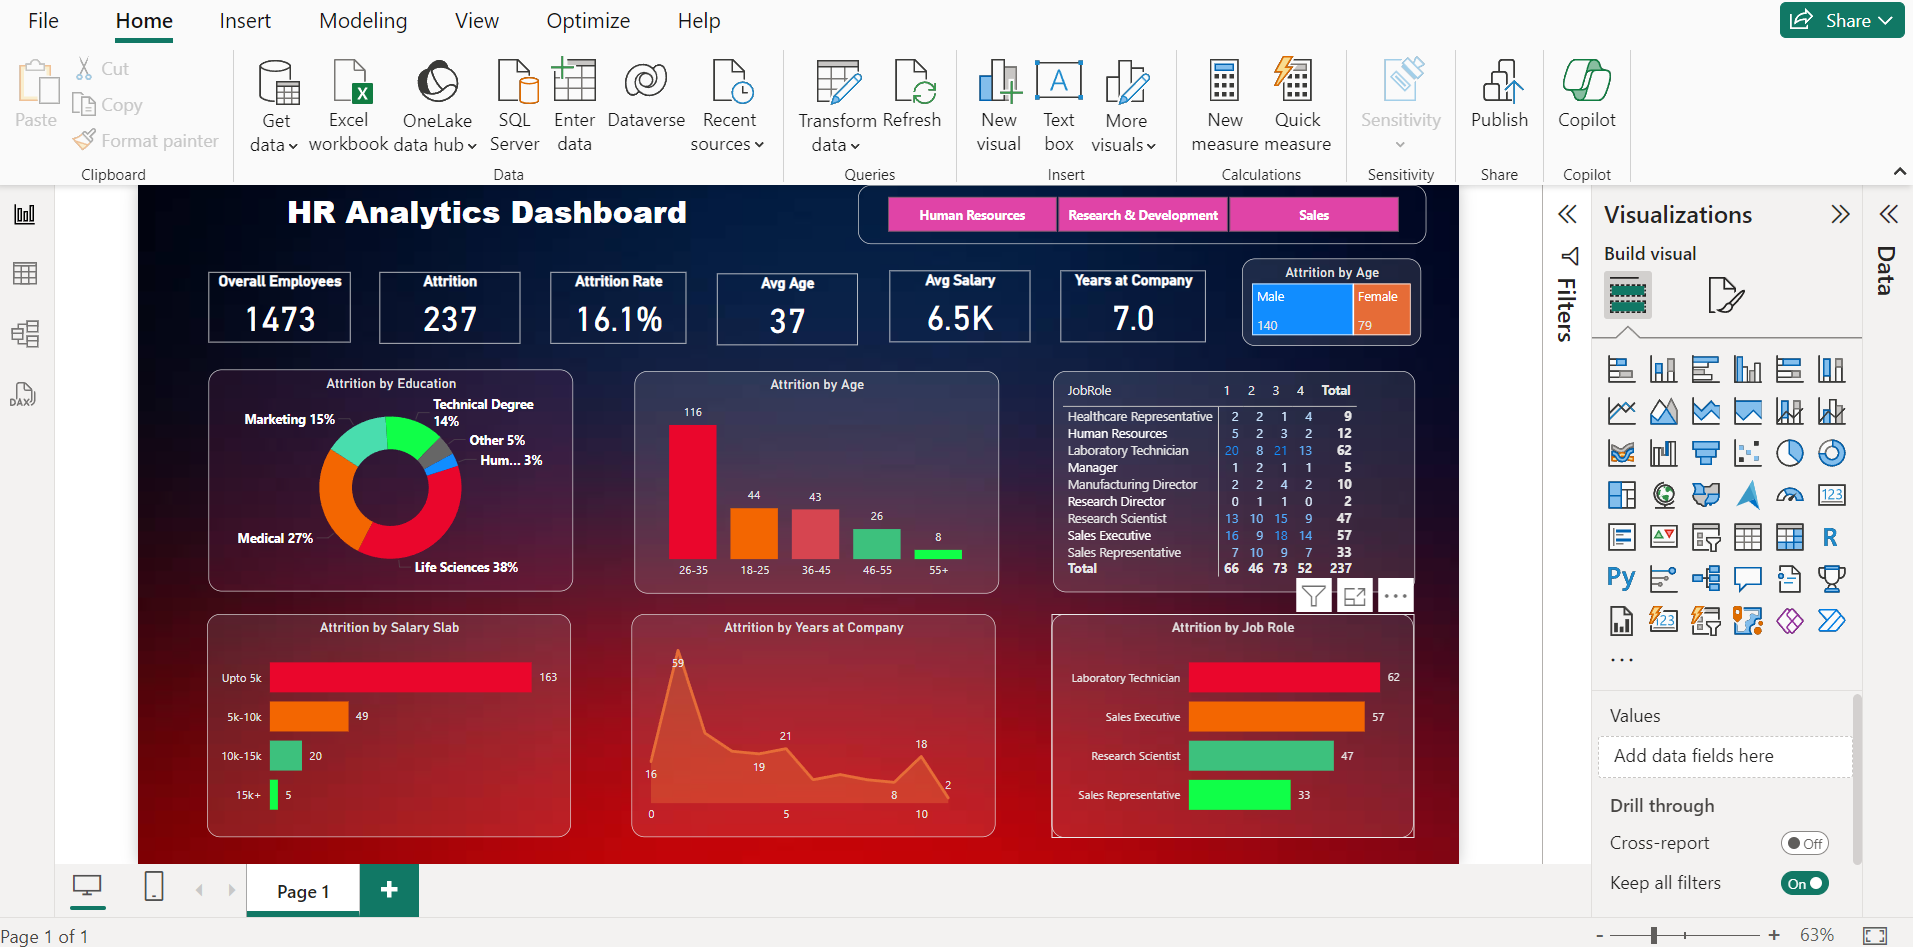

Layout of this report page (visuals, bound fields, positions):
{"tool":"powerbi","page":{"name":"Page 1","canvas":[1400,720],"ordinal":0},"visuals":[{"type":"card","title":"Overall Employees","fields":{"Values":["CountNonNull(HR_Analytics.EmpID)"]},"box":[74.5,92.7,150.7,74.5],"z":0},{"type":"card","title":"Attrition","fields":{"Values":["Sum(HR_Analytics.AttritionCount)"]},"box":[256.7,92.7,149.1,76.2],"z":1000},{"type":"card","title":"Attrition Rate","fields":{"Values":["HR_Analytics.AttritionRate"]},"box":[437.2,92.7,144.1,76.2],"z":2000},{"type":"card","title":"Avg Age","fields":{"Values":["Avg(HR_Analytics.Age)"]},"box":[614.4,94.4,149.1,76.2],"z":3000},{"type":"card","title":"Avg Salary","fields":{"Values":["Avg(HR_Analytics.MonthlyIncome)"]},"box":[796.6,91.1,149.1,76.2],"z":4000},{"type":"card","title":"Years at Company","fields":{"Values":["Avg(HR_Analytics.YearsAtCompany)"]},"box":[978.8,91.1,154,76.2],"z":5000},{"type":"donutChart","title":"Attrition by Education","fields":{"Category":["HR_Analytics.EducationField"],"Y":["Sum(HR_Analytics.AttritionCount)"]},"box":[74.5,196,386.4,235.2],"z":6000},{"type":"columnChart","title":"Attrition by Age","fields":{"Y":["Sum(HR_Analytics.AttritionCount)"],"Category":["HR_Analytics.AgeGroup"]},"box":[526.2,197.1,386.4,235.8],"z":7000},{"type":"pivotTable","fields":{"Rows":["HR_Analytics.JobRole"],"Columns":["HR_Analytics.JobSatisfaction"],"Values":["Sum(HR_Analytics.AttritionCount)"]},"box":[970.4,197.5,384,234.6],"z":8000},{"type":"clusteredBarChart","title":"Attrition by Salary Slab","fields":{"Category":["HR_Analytics.SalarySlab"],"Y":["Sum(HR_Analytics.AttritionCount)"]},"box":[73.8,454.9,385.9,236.8],"z":9000},{"type":"clusteredBarChart","title":"Attrition by Job Role","fields":{"Category":["HR_Analytics.JobRole"],"Y":["Sum(HR_Analytics.AttritionCount)"]},"box":[969.1,455.6,384,237],"z":10000},{"type":"areaChart","title":"Attrition by Years at Company","fields":{"Category":["HR_Analytics.YearsAtCompany"],"Y":["Sum(HR_Analytics.AttritionCount)"]},"box":[524.1,455,385.9,236.8],"z":11000},{"type":"treemap","title":"Attrition by Age","fields":{"Group":["HR_Analytics.Gender"],"Values":["Sum(HR_Analytics.AttritionCount)"]},"box":[1170.4,77.8,190.1,92.6],"z":12000},{"type":"slicer","fields":{"Values":["HR_Analytics.Department"]},"box":[763.5,0,602.8,62.9],"z":13000},{"type":"textbox","box":[0,0,740.3,77.8],"z":14000}]}

Visuals, with their boxes on the page's 1400x720 design canvas (x1, y1, x2, y2). These are canvas units, not pixel positions in the 1913x947 screenshot, which may show the page scaled, cropped or inside an application window:
"Overall Employees" card: (x1=74, y1=93, x2=225, y2=167)
"Attrition" card: (x1=257, y1=93, x2=406, y2=169)
"Attrition Rate" card: (x1=437, y1=93, x2=581, y2=169)
"Avg Age" card: (x1=614, y1=94, x2=764, y2=171)
"Avg Salary" card: (x1=797, y1=91, x2=946, y2=167)
"Years at Company" card: (x1=979, y1=91, x2=1133, y2=167)
"Attrition by Education" donutChart: (x1=74, y1=196, x2=461, y2=431)
"Attrition by Age" columnChart: (x1=526, y1=197, x2=913, y2=433)
pivotTable - HR_Analytics.JobRole x HR_Analytics.JobSatisfaction: (x1=970, y1=198, x2=1354, y2=432)
"Attrition by Salary Slab" clusteredBarChart: (x1=74, y1=455, x2=460, y2=692)
"Attrition by Job Role" clusteredBarChart: (x1=969, y1=456, x2=1353, y2=693)
"Attrition by Years at Company" areaChart: (x1=524, y1=455, x2=910, y2=692)
"Attrition by Age" treemap: (x1=1170, y1=78, x2=1360, y2=170)
slicer - HR_Analytics.Department: (x1=764, y1=0, x2=1366, y2=63)
textbox: (x1=0, y1=0, x2=740, y2=78)
